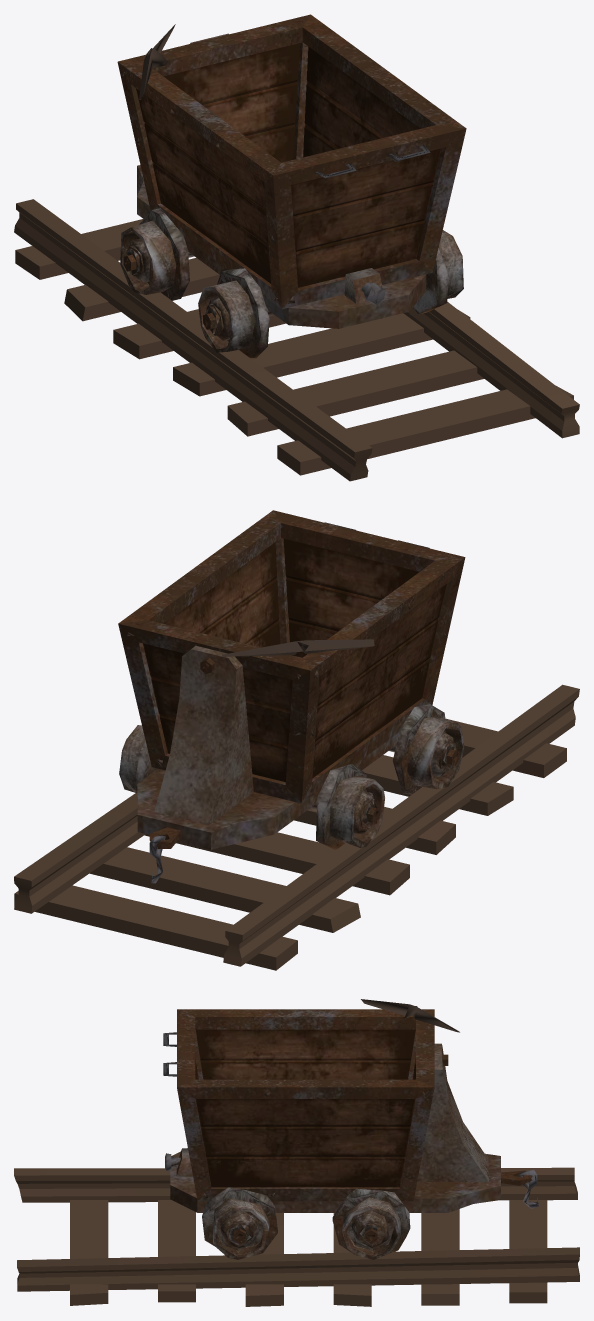
File: mine-cart.lod0.glb
The picture shows the model from 3 angles, top to bottom: view 1: azimuth 30°, elevation 25°; view 2: azimuth 150°, elevation 25°; view 3: azimuth 270°, elevation 25°; orthographic projection. The views are drawn at different scales.
Visible parts, largest first — view 1: defaultMaterial (×2); view 2: defaultMaterial (×2); view 3: defaultMaterial (×2).
Part boxes in pixels (<box>): defaultMaterial (×2): <box>14,14,579,481</box>; defaultMaterial (×2): <box>14,510,579,970</box>; defaultMaterial (×2): <box>14,999,579,1306</box>.
Size of the model in its own units: 1.04 by 0.9194 by 2.2.
Materials: 2 (1 with a texture image).
